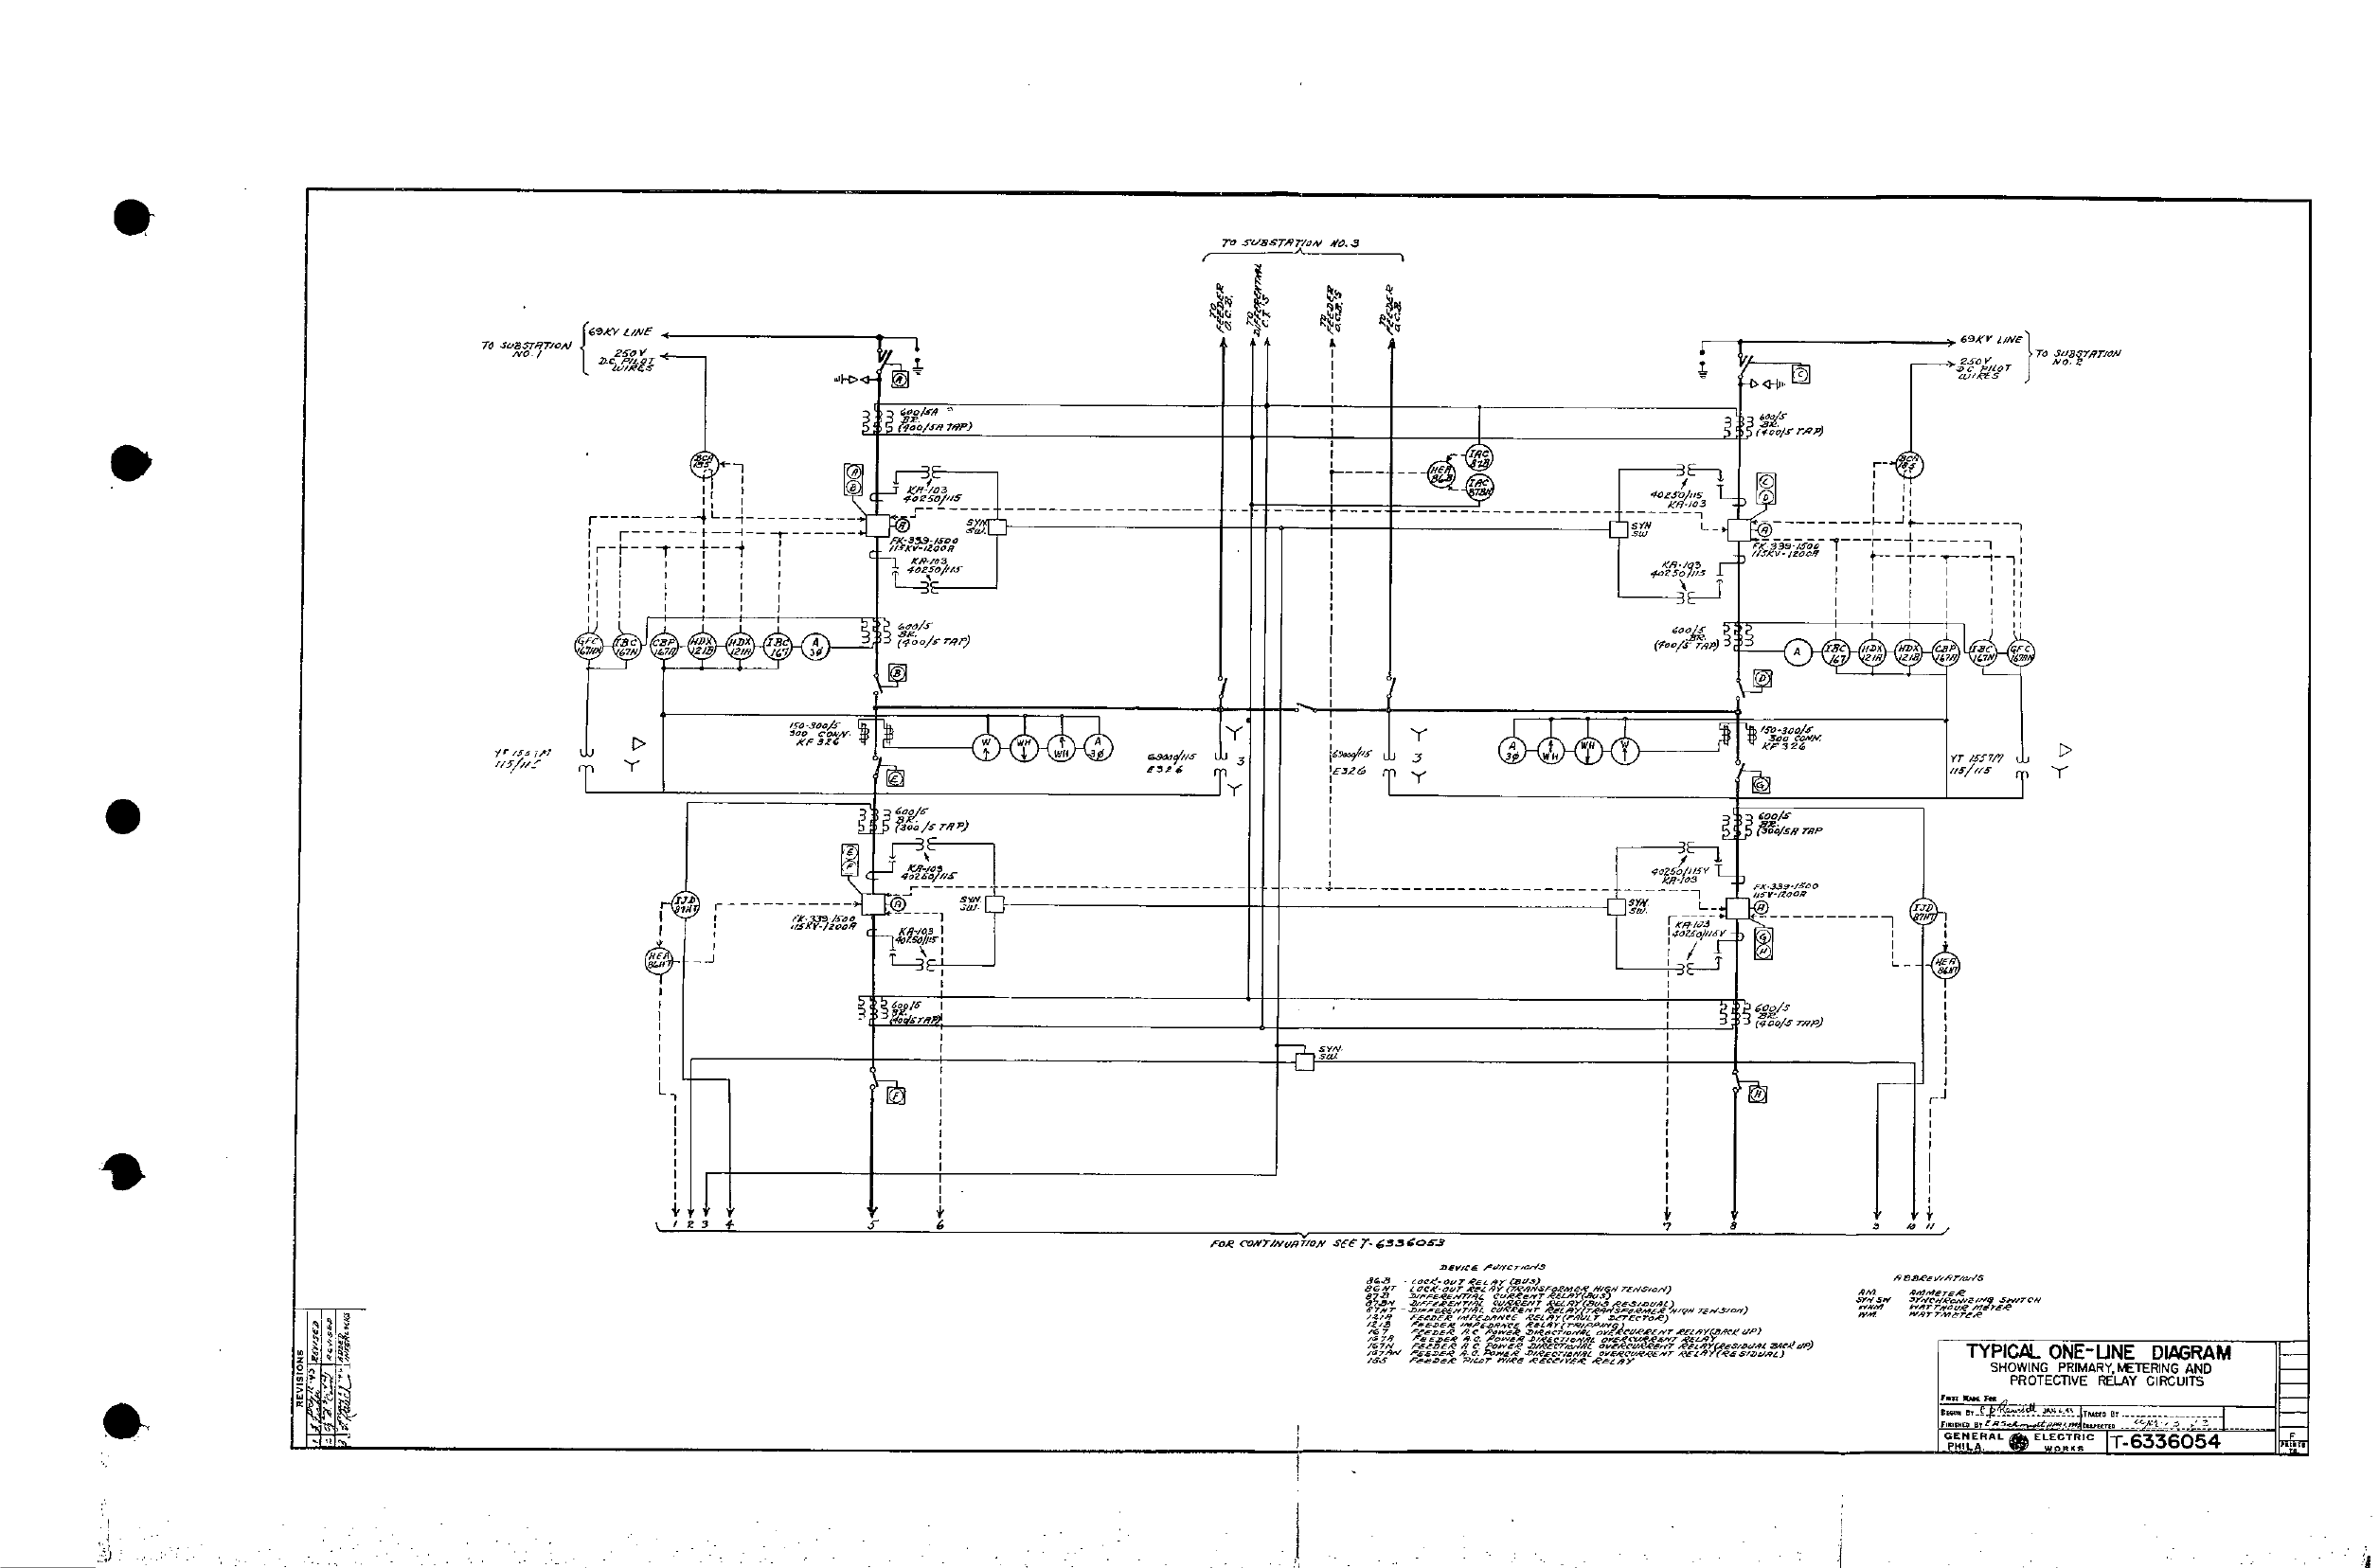ground: (1684, 362, 1717, 383), (1770, 364, 1791, 396), (907, 362, 930, 376)
switch: (1206, 663, 1239, 703), (856, 1055, 886, 1097), (1369, 665, 1404, 700), (1724, 669, 1749, 703), (1726, 751, 1747, 789), (865, 751, 884, 784), (1290, 698, 1318, 719), (1724, 1066, 1745, 1094)
transformer: (567, 731, 604, 789), (909, 457, 951, 485), (1372, 744, 1399, 782), (1667, 453, 1705, 480), (1204, 747, 1231, 780), (1661, 588, 1705, 607), (1668, 831, 1698, 857), (914, 577, 944, 598), (1668, 957, 1696, 978)
